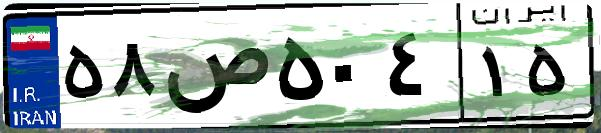0: (330, 28, 385, 110)
1: (475, 38, 525, 113)
4: (385, 28, 445, 110)
5: (270, 28, 330, 110), (57, 26, 110, 100), (525, 38, 570, 115)
8: (110, 28, 158, 98)
ص: (158, 20, 270, 120)
